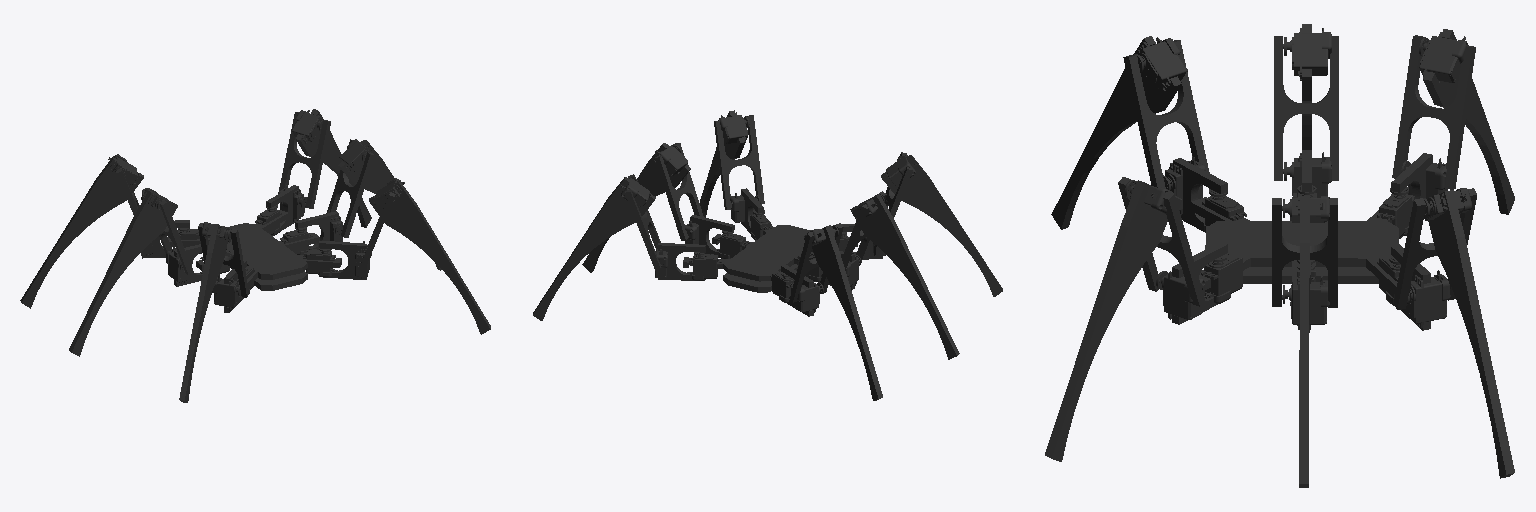
--- What the picture shows (computed from the rendered views, not written in the file) ---
The picture shows the robot from 3 angles, left to right: view 1: azimuth 30°, elevation 25°; view 2: azimuth 150°, elevation 25°; view 3: azimuth 270°, elevation 25°; orthographic projection.
Model arachne with 19 links and 18 joints (18 revolute), rooted at lowerbody, posed all joints at 0.
Visible links, largest first — view 1: lowerbody, femur, femur_6, femur_5, femur_4, femur_3, femur_2, tibia_3, tibia_2, hip, hip_3, hip_4 (+5 smaller); view 2: lowerbody, femur_5, femur_3, femur_4, femur_6, femur_2, tibia, femur, tibia_2, hip_3, hip_2, tibia_3 (+5 smaller); view 3: lowerbody, femur, femur_3, femur_4, femur_6, tibia_6, femur_2, tibia_4, tibia_5, tibia_2, femur_5, tibia (+7 smaller).
Link boxes in pixels (x1,y1,x2,y2): lowerbody: [168, 205, 341, 297]; femur: [369, 179, 490, 334]; femur_6: [20, 155, 143, 308]; femur_5: [69, 188, 177, 356]; femur_4: [179, 222, 231, 402]; femur_3: [291, 109, 371, 227]; femur_2: [338, 139, 441, 270]; tibia_3: [279, 112, 330, 208]; tibia_2: [326, 139, 374, 237]; hip: [319, 241, 371, 279]; hip_3: [266, 185, 306, 235]; hip_4: [212, 260, 246, 312]; lowerbody: [683, 210, 857, 302]; femur_5: [850, 194, 959, 359]; femur_3: [533, 177, 655, 320]; femur_4: [881, 155, 1002, 296]; femur_6: [804, 225, 882, 400]; femur_2: [582, 143, 690, 272]; tibia: [714, 115, 764, 209]; femur: [700, 110, 749, 217]; tibia_2: [655, 143, 703, 240]; hip_3: [655, 243, 705, 280]; hip_2: [685, 215, 734, 258]; tibia_3: [625, 174, 660, 270]; lowerbody: [1191, 185, 1414, 305]; femur: [1045, 180, 1181, 461]; femur_3: [1423, 188, 1514, 478]; femur_4: [1051, 36, 1187, 229]; femur_6: [1419, 29, 1514, 214]; tibia_6: [1392, 35, 1475, 189]; femur_2: [1283, 196, 1329, 487]; tibia_4: [1123, 40, 1209, 188]; tibia_5: [1274, 36, 1338, 180]; tibia_2: [1272, 198, 1337, 307]; femur_5: [1284, 24, 1331, 149]; tibia: [1118, 177, 1204, 306].
Bounding box of the posed robot: 0.7246 × 0.4879 × 0.2715 m (x, y, z).
74 mesh visuals loaded from 8 distinct referenced files (8 binary STL).

URDF robot description (arachne):
<?xml version="1.0" ?>
<!-- Generated using onshape-to-robot -->
<!-- Onshape https://cad.onshape.com/documents/6d2de7d00083ca907fc2babe/w/304502f29ec410dd09729b69/e/1a771d50b15e1c926d9bfb2b -->
<robot name="arachne">
  <!-- Link lowerbody -->
  <link name="lowerbody">
    <inertial>
      <origin xyz="-0.0540356 -0.0172819 -0.02284" rpy="0 0 0"/>
      <mass value="0.776148"/>
      <inertia ixx="0.00347337" ixy="-1.33678e-06" ixz="-2.85786e-08" iyy="0.00268241" iyz="-5.69255e-06" izz="0.00596839"/>
    </inertial>
    <!-- Part lowerbody -->
    <visual>
      <origin xyz="-0.054048 -0.00137342 -0.0313015" rpy="-3.14159 -1.58122e-14 -2.01699e-27"/>
      <geometry>
        <mesh filename="package://assets/lowerbody.stl"/>
      </geometry>
      <material name="lowerbody_material">
        <color rgba="0.25 0.25 0.25 1"/>
      </material>
    </visual>
    <collision>
      <origin xyz="-0.054048 -0.00137342 -0.0313015" rpy="-3.14159 -1.58122e-14 -2.01699e-27"/>
      <geometry>
        <mesh filename="package://assets/lowerbody.stl"/>
      </geometry>
    </collision>
    <!-- Part upperbody -->
    <visual>
      <origin xyz="-0.316404 -0.0374887 -0.0213015" rpy="1.36938e-27 -1.58122e-14 -2.01699e-27"/>
      <geometry>
        <mesh filename="package://assets/upperbody.stl"/>
      </geometry>
      <material name="upperbody_material">
        <color rgba="0.25 0.25 0.25 1"/>
      </material>
    </visual>
    <collision>
      <origin xyz="-0.316404 -0.0374887 -0.0213015" rpy="1.36938e-27 -1.58122e-14 -2.01699e-27"/>
      <geometry>
        <mesh filename="package://assets/upperbody.stl"/>
      </geometry>
    </collision>
    <!-- Part idler -->
    <visual>
      <origin xyz="0.0448815 0.0747041 0.18291" rpy="-3.14159 1.43937e-14 -2.71479"/>
      <geometry>
        <mesh filename="package://assets/idler.stl"/>
      </geometry>
      <material name="idler_material">
        <color rgba="0.25 0.25 0.25 1"/>
      </material>
    </visual>
    <collision>
      <origin xyz="0.0448815 0.0747041 0.18291" rpy="-3.14159 1.43937e-14 -2.71479"/>
      <geometry>
        <mesh filename="package://assets/idler.stl"/>
      </geometry>
    </collision>
    <!-- Part idler_2 -->
    <visual>
      <origin xyz="-0.150443 -0.00554233 0.18291" rpy="-3.14159 -1.58122e-14 -3.89288e-15"/>
      <geometry>
        <mesh filename="package://assets/idler.stl"/>
      </geometry>
      <material name="idler_2_material">
        <color rgba="0.25 0.25 0.25 1"/>
      </material>
    </visual>
    <collision>
      <origin xyz="-0.150443 -0.00554233 0.18291" rpy="-3.14159 -1.58122e-14 -3.89288e-15"/>
      <geometry>
        <mesh filename="package://assets/idler.stl"/>
      </geometry>
    </collision>
    <!-- Part idler_3 -->
    <visual>
      <origin xyz="-0.143501 0.0940223 0.18291" rpy="-3.14159 -1.43307e-14 -0.436332"/>
      <geometry>
        <mesh filename="package://assets/idler.stl"/>
      </geometry>
      <material name="idler_3_material">
        <color rgba="0.25 0.25 0.25 1"/>
      </material>
    </visual>
    <collision>
      <origin xyz="-0.143501 0.0940223 0.18291" rpy="-3.14159 -1.43307e-14 -0.436332"/>
      <geometry>
        <mesh filename="package://assets/idler.stl"/>
      </geometry>
    </collision>
    <!-- Part idler_4 -->
    <visual>
      <origin xyz="0.0269595 -0.122635 0.18291" rpy="3.14159 1.23128e-14 2.46337"/>
      <geometry>
        <mesh filename="package://assets/idler.stl"/>
      </geometry>
      <material name="idler_4_material">
        <color rgba="0.25 0.25 0.25 1"/>
      </material>
    </visual>
    <collision>
      <origin xyz="0.0269595 -0.122635 0.18291" rpy="3.14159 1.23128e-14 2.46337"/>
      <geometry>
        <mesh filename="package://assets/idler.stl"/>
      </geometry>
    </collision>
    <!-- Part idler_5 -->
    <visual>
      <origin xyz="0.0422868 -0.0267405 0.18291" rpy="3.14159 1.58129e-14 3.13207"/>
      <geometry>
        <mesh filename="package://assets/idler.stl"/>
      </geometry>
      <material name="idler_5_material">
        <color rgba="0.25 0.25 0.25 1"/>
      </material>
    </visual>
    <collision>
      <origin xyz="0.0422868 -0.0267405 0.18291" rpy="3.14159 1.58129e-14 3.13207"/>
      <geometry>
        <mesh filename="package://assets/idler.stl"/>
      </geometry>
    </collision>
    <!-- Part idler_6 -->
    <visual>
      <origin xyz="-0.148603 -0.105946 0.18291" rpy="3.14159 -1.24067e-14 0.668693"/>
      <geometry>
        <mesh filename="package://assets/idler.stl"/>
      </geometry>
      <material name="idler_6_material">
        <color rgba="0.25 0.25 0.25 1"/>
      </material>
    </visual>
    <collision>
      <origin xyz="-0.148603 -0.105946 0.18291" rpy="3.14159 -1.24067e-14 0.668693"/>
      <geometry>
        <mesh filename="package://assets/idler.stl"/>
      </geometry>
    </collision>
    <!-- Part e07_mg996r -->
    <visual>
      <origin xyz="0.0220999 0.0754833 -0.0113015" rpy="6.54567e-15 1.43937e-14 -2.71479"/>
      <geometry>
        <mesh filename="package://assets/e07_mg996r.stl"/>
      </geometry>
      <material name="e07_mg996r_material">
        <color rgba="0.25 0.25 0.25 1"/>
      </material>
    </visual>
    <collision>
      <origin xyz="0.0220999 0.0754833 -0.0113015" rpy="6.54567e-15 1.43937e-14 -2.71479"/>
      <geometry>
        <mesh filename="package://assets/e07_mg996r.stl"/>
      </geometry>
    </collision>
    <!-- Part servo_horns -->
    <visual>
      <origin xyz="0.0312028 0.0796229 0.00594854" rpy="-1.5708 2.09797e-15 -2.71479"/>
      <geometry>
        <mesh filename="package://assets/servo_horns.stl"/>
      </geometry>
      <material name="servo_horns_material">
        <color rgba="0.25 0.25 0.25 1"/>
      </material>
    </visual>
    <collision>
      <origin xyz="0.0312028 0.0796229 0.00594854" rpy="-1.5708 2.09797e-15 -2.71479"/>
      <geometry>
        <mesh filename="package://assets/servo_horns.stl"/>
      </geometry>
    </collision>
    <!-- Part e07_mg996r_2 -->
    <visual>
      <origin xyz="-0.130028 -0.0156824 -0.0113015" rpy="1.46066e-27 -1.58122e-14 -3.89288e-15"/>
      <geometry>
        <mesh filename="package://assets/e07_mg996r.stl"/>
      </geometry>
      <material name="e07_mg996r_2_material">
        <color rgba="0.25 0.25 0.25 1"/>
      </material>
    </visual>
    <collision>
      <origin xyz="-0.130028 -0.0156824 -0.0113015" rpy="1.46066e-27 -1.58122e-14 -3.89288e-15"/>
      <geometry>
        <mesh filename="package://assets/e07_mg996r.stl"/>
      </geometry>
    </collision>
    <!-- Part servo_horns_2 -->
    <visual>
      <origin xyz="-0.140028 -0.0156824 0.00594854" rpy="-1.5708 -1.75355e-16 -8.38581e-15"/>
      <geometry>
        <mesh filename="package://assets/servo_horns.stl"/>
      </geometry>
      <material name="servo_horns_2_material">
        <color rgba="0.25 0.25 0.25 1"/>
      </material>
    </visual>
    <collision>
      <origin xyz="-0.140028 -0.0156824 0.00594854" rpy="-1.5708 -1.75355e-16 -8.38581e-15"/>
      <geometry>
        <mesh filename="package://assets/servo_horns.stl"/>
      </geometry>
    </collision>
    <!-- Part e07_mg996r_3 -->
    <visual>
      <origin xyz="-0.129284 0.0762044 -0.0113015" rpy="6.6825e-15 -1.43307e-14 -0.436332"/>
      <geometry>
        <mesh filename="package://assets/e07_mg996r.stl"/>
      </geometry>
      <material name="e07_mg996r_3_material">
        <color rgba="0.25 0.25 0.25 1"/>
      </material>
    </visual>
    <collision>
      <origin xyz="-0.129284 0.0762044 -0.0113015" rpy="6.6825e-15 -1.43307e-14 -0.436332"/>
      <geometry>
        <mesh filename="package://assets/e07_mg996r.stl"/>
      </geometry>
    </collision>
    <!-- Part servo_horns_3 -->
    <visual>
      <origin xyz="-0.138347 0.0804306 0.00594854" rpy="-1.5708 7.69581e-15 -0.436332"/>
      <geometry>
        <mesh filename="package://assets/servo_horns.stl"/>
      </geometry>
      <material name="servo_horns_3_material">
        <color rgba="0.25 0.25 0.25 1"/>
      </material>
    </visual>
    <collision>
      <origin xyz="-0.138347 0.0804306 0.00594854" rpy="-1.5708 7.69581e-15 -0.436332"/>
      <geometry>
        <mesh filename="package://assets/servo_horns.stl"/>
      </geometry>
    </collision>
    <!-- Part e07_mg996r_4 -->
    <visual>
      <origin xyz="0.0174242 -0.10193 -0.0113015" rpy="-9.92068e-15 1.23128e-14 2.46337"/>
      <geometry>
        <mesh filename="package://assets/e07_mg996r.stl"/>
      </geometry>
      <material name="e07_mg996r_4_material">
        <color rgba="0.25 0.25 0.25 1"/>
      </material>
    </visual>
    <collision>
      <origin xyz="0.0174242 -0.10193 -0.0113015" rpy="-9.92068e-15 1.23128e-14 2.46337"/>
      <geometry>
        <mesh filename="package://assets/e07_mg996r.stl"/>
      </geometry>
    </collision>
    <!-- Part servo_horns_4 -->
    <visual>
      <origin xyz="0.0252111 -0.108204 0.00594854" rpy="-1.5708 3.08939e-15 2.46337"/>
      <geometry>
        <mesh filename="package://assets/servo_horns.stl"/>
      </geometry>
      <material name="servo_horns_4_material">
        <color rgba="0.25 0.25 0.25 1"/>
      </material>
    </visual>
    <collision>
      <origin xyz="0.0252111 -0.108204 0.00594854" rpy="-1.5708 3.08939e-15 2.46337"/>
      <geometry>
        <mesh filename="package://assets/servo_horns.stl"/>
      </geometry>
    </collision>
    <!-- Part e07_mg996r_5 -->
    <visual>
      <origin xyz="0.0219689 -0.0164065 -0.0113015" rpy="-1.5065e-16 1.58129e-14 3.13207"/>
      <geometry>
        <mesh filename="package://assets/e07_mg996r.stl"/>
      </geometry>
      <material name="e07_mg996r_5_material">
        <color rgba="0.25 0.25 0.25 1"/>
      </material>
    </visual>
    <collision>
      <origin xyz="0.0219689 -0.0164065 -0.0113015" rpy="-1.5065e-16 1.58129e-14 3.13207"/>
      <geometry>
        <mesh filename="package://assets/e07_mg996r.stl"/>
      </geometry>
    </collision>
    <!-- Part servo_horns_5 -->
    <visual>
      <origin xyz="0.0319685 -0.0165017 0.00594854" rpy="-1.5708 -3.06292e-15 3.13207"/>
      <geometry>
        <mesh filename="package://assets/servo_horns.stl"/>
      </geometry>
      <material name="servo_horns_5_material">
        <color rgba="0.25 0.25 0.25 1"/>
      </material>
    </visual>
    <collision>
      <origin xyz="0.0319685 -0.0165017 0.00594854" rpy="-1.5708 -3.06292e-15 3.13207"/>
      <geometry>
        <mesh filename="package://assets/servo_horns.stl"/>
      </geometry>
    </collision>
    <!-- Part e07_mg996r_6 -->
    <visual>
      <origin xyz="-0.126298 -0.101246 -0.0113015" rpy="-9.80292e-15 -1.24067e-14 0.668693"/>
      <geometry>
        <mesh filename="package://assets/e07_mg996r.stl"/>
      </geometry>
      <material name="e07_mg996r_6_material">
        <color rgba="0.25 0.25 0.25 1"/>
      </material>
    </visual>
    <collision>
      <origin xyz="-0.126298 -0.101246 -0.0113015" rpy="-9.80292e-15 -1.24067e-14 0.668693"/>
      <geometry>
        <mesh filename="package://assets/e07_mg996r.stl"/>
      </geometry>
    </collision>
    <!-- Part servo_horns_6 -->
    <visual>
      <origin xyz="-0.134145 -0.107445 0.00594854" rpy="-1.5708 5.2737e-16 0.668693"/>
      <geometry>
        <mesh filename="package://assets/servo_horns.stl"/>
      </geometry>
      <material name="servo_horns_6_material">
        <color rgba="0.25 0.25 0.25 1"/>
      </material>
    </visual>
    <collision>
      <origin xyz="-0.134145 -0.107445 0.00594854" rpy="-1.5708 5.2737e-16 0.668693"/>
      <geometry>
        <mesh filename="package://assets/servo_horns.stl"/>
      </geometry>
    </collision>
  </link>
  <!-- Link hip -->
  <link name="hip">
    <inertial>
      <origin xyz="-0.053206 0.00249015 0.0207088" rpy="0 0 0"/>
      <mass value="0.0877468"/>
      <inertia ixx="3.22487e-05" ixy="2.10022e-06" ixz="2.05736e-07" iyy="5.43322e-05" iyz="3.66247e-07" izz="3.75006e-05"/>
    </inertial>
    <!-- Part hip -->
    <visual>
      <origin xyz="-0.180836 -0.005 -0.23702" rpy="-1.5708 -1.14941e-17 -4.42385e-14"/>
      <geometry>
        <mesh filename="package://assets/hip.stl"/>
      </geometry>
      <material name="hip_material">
        <color rgba="0.25 0.25 0.25 1"/>
      </material>
    </visual>
    <collision>
      <origin xyz="-0.180836 -0.005 -0.23702" rpy="-1.5708 -1.14941e-17 -4.42385e-14"/>
      <geometry>
        <mesh filename="package://assets/hip.stl"/>
      </geometry>
    </collision>
    <!-- Part idler_7 -->
    <visual>
      <origin xyz="-0.0729354 -0.199212 0.00108461" rpy="-1.5708 -1.5708 0"/>
      <geometry>
        <mesh filename="package://assets/idler.stl"/>
      </geometry>
      <material name="idler_7_material">
        <color rgba="0.25 0.25 0.25 1"/>
      </material>
    </visual>
    <collision>
      <origin xyz="-0.0729354 -0.199212 0.00108461" rpy="-1.5708 -1.5708 0"/>
      <geometry>
        <mesh filename="package://assets/idler.stl"/>
      </geometry>
    </collision>
    <!-- Part e07_mg996r_7 -->
    <visual>
      <origin xyz="-0.0627954 -0.005 0.0215" rpy="1.5708 -1.5708 0"/>
      <geometry>
        <mesh filename="package://assets/e07_mg996r.stl"/>
      </geometry>
      <material name="e07_mg996r_7_material">
        <color rgba="0.25 0.25 0.25 1"/>
      </material>
    </visual>
    <collision>
      <origin xyz="-0.0627954 -0.005 0.0215" rpy="1.5708 -1.5708 0"/>
      <geometry>
        <mesh filename="package://assets/e07_mg996r.stl"/>
      </geometry>
    </collision>
    <!-- Part servo_horns_7 -->
    <visual>
      <origin xyz="-0.0627954 -0.02225 0.0115" rpy="-1.2367e-13 -1.5708 0"/>
      <geometry>
        <mesh filename="package://assets/servo_horns.stl"/>
      </geometry>
      <material name="servo_horns_7_material">
        <color rgba="0.25 0.25 0.25 1"/>
      </material>
    </visual>
    <collision>
      <origin xyz="-0.0627954 -0.02225 0.0115" rpy="-1.2367e-13 -1.5708 0"/>
      <geometry>
        <mesh filename="package://assets/servo_horns.stl"/>
      </geometry>
    </collision>
  </link>
  <!-- Link tibia -->
  <link name="tibia">
    <inertial>
      <origin xyz="-0.06108 -0.0222313 0.0229759" rpy="0 0 0"/>
      <mass value="0.0478411"/>
      <inertia ixx="4.33859e-05" ixy="-2.26958e-05" ixz="7.43363e-19" iyy="9.74814e-05" iyz="6.53219e-19" izz="7.14134e-05"/>
    </inertial>
    <!-- Part tibia -->
    <visual>
      <origin xyz="0.243359 0.0938963 -0.234601" rpy="-1.5708 2.62926e-14 -2.79253"/>
      <geometry>
        <mesh filename="package://assets/tibia.stl"/>
      </geometry>
      <material name="tibia_material">
        <color rgba="0.25 0.25 0.25 1"/>
      </material>
    </visual>
    <collision>
      <origin xyz="0.243359 0.0938963 -0.234601" rpy="-1.5708 2.62926e-14 -2.79253"/>
      <geometry>
        <mesh filename="package://assets/tibia.stl"/>
      </geometry>
    </collision>
  </link>
  <!-- Link femur -->
  <link name="femur">
    <inertial>
      <origin xyz="0.00696633 0.0653801 -0.0247333" rpy="0 0 0"/>
      <mass value="0.163879"/>
      <inertia ixx="0.001055" ixy="3.57963e-05" ixz="1.23733e-07" iyy="3.99249e-05" iyz="-1.42808e-05" izz="0.00107773"/>
    </inertial>
    <!-- Part femur -->
    <visual>
      <origin xyz="-0.244994 -0.502112 -0.0284" rpy="5.88775e-14 -2.49801e-15 1.5708"/>
      <geometry>
        <mesh filename="package://assets/femur.stl"/>
      </geometry>
      <material name="femur_material">
        <color rgba="0.25 0.25 0.25 1"/>
      </material>
    </visual>
    <collision>
      <origin xyz="-0.244994 -0.502112 -0.0284" rpy="5.88775e-14 -2.49801e-15 1.5708"/>
      <geometry>
        <mesh filename="package://assets/femur.stl"/>
      </geometry>
    </collision>
    <!-- Part idler_8 -->
    <visual>
      <origin xyz="-0.0104154 0.01014 0.175812" rpy="-3.14159 -4.61433e-14 5.8207e-14"/>
      <geometry>
        <mesh filename="package://assets/idler.stl"/>
      </geometry>
      <material name="idler_8_material">
        <color rgba="0.25 0.25 0.25 1"/>
      </material>
    </visual>
    <collision>
      <origin xyz="-0.0104154 0.01014 0.175812" rpy="-3.14159 -4.61433e-14 5.8207e-14"/>
      <geometry>
        <mesh filename="package://assets/idler.stl"/>
      </geometry>
    </collision>
    <!-- Part e07_mg996r_8 -->
    <visual>
      <origin xyz="0.01 3.8719e-15 -0.0184" rpy="2.51941e-15 5.88803e-14 3.26009e-14"/>
      <geometry>
        <mesh filename="package://assets/e07_mg996r.stl"/>
      </geometry>
      <material name="e07_mg996r_8_material">
        <color rgba="0.25 0.25 0.25 1"/>
      </material>
    </visual>
    <collision>
      <origin xyz="0.01 3.8719e-15 -0.0184" rpy="2.51941e-15 5.88803e-14 3.26009e-14"/>
      <geometry>
        <mesh filename="package://assets/e07_mg996r.stl"/>
      </geometry>
    </collision>
    <!-- Part servo_horns_8 -->
    <visual>
      <origin xyz="2.77556e-17 6.93889e-18 -0.00115" rpy="-1.5708 -2.34685e-17 -1.21229e-16"/>
      <geometry>
        <mesh filename="package://assets/servo_horns.stl"/>
      </geometry>
      <material name="servo_horns_8_material">
        <color rgba="0.25 0.25 0.25 1"/>
      </material>
    </visual>
    <collision>
      <origin xyz="2.77556e-17 6.93889e-18 -0.00115" rpy="-1.5708 -2.34685e-17 -1.21229e-16"/>
      <geometry>
        <mesh filename="package://assets/servo_horns.stl"/>
      </geometry>
    </collision>
  </link>
  <!-- Joint from tibia to femur -->
  <joint name="femur_r1" type="revolute">
    <origin xyz="-0.12216 -0.0444626 -3.45557e-15" rpy="-3.14159 1.8554e-14 0.959931"/>
    <parent link="tibia"/>
    <child link="femur"/>
    <axis xyz="0 0 1"/>
    <limit effort="10" velocity="6" lower="-1.5099e-14" upper="2.18166"/>
    <joint_properties friction="0.5"/>
  </joint>
  <!-- Joint from hip to tibia -->
  <joint name="tibia_r1" type="revolute">
    <origin xyz="-0.0697954 -0.0234 0.0115" rpy="-1.5708 -1.5708 0"/>
    <parent link="hip"/>
    <child link="tibia"/>
    <axis xyz="0 0 1"/>
    <limit effort="10" velocity="6" lower="-2.22045e-15" upper="1.22173"/>
    <joint_properties friction="0.5"/>
  </joint>
  <!-- Joint from lowerbody to hip -->
  <joint name="hip_r1" type="revolute">
    <origin xyz="0.0252111 -0.108204 0.00709854" rpy="3.14159 3.08939e-15 2.46337"/>
    <parent link="lowerbody"/>
    <child link="hip"/>
    <axis xyz="0 0 1"/>
    <limit effort="10" velocity="6" lower="-0.523599" upper="0.523599"/>
    <joint_properties friction="0.5"/>
  </joint>
  <!-- Link hip_2 -->
  <link name="hip_2">
    <inertial>
      <origin xyz="-0.053206 0.00249015 0.0207088" rpy="0 0 0"/>
      <mass value="0.0877468"/>
      <inertia ixx="3.22487e-05" ixy="2.10022e-06" ixz="2.05736e-07" iyy="5.43322e-05" iyz="3.66247e-07" izz="3.75006e-05"/>
    </inertial>
    <!-- Part hip_2 -->
    <visual>
      <origin xyz="-0.180836 -0.005 -0.23702" rpy="-1.5708 -7.323e-18 -2.45118e-14"/>
      <geometry>
        <mesh filename="package://assets/hip.stl"/>
      </geometry>
      <material name="hip_2_material">
        <color rgba="0.25 0.25 0.25 1"/>
      </material>
    </visual>
    <collision>
      <origin xyz="-0.180836 -0.005 -0.23702" rpy="-1.5708 -7.323e-18 -2.45118e-14"/>
      <geometry>
        <mesh filename="package://assets/hip.stl"/>
      </geometry>
    </collision>
    <!-- Part idler_9 -->
    <visual>
      <origin xyz="-0.0729354 -0.199212 0.00108461" rpy="-1.5708 -1.5708 0"/>
      <geometry>
        <mesh filename="package://assets/idler.stl"/>
      </geometry>
      <material name="idler_9_material">
        <color rgba="0.25 0.25 0.25 1"/>
      </material>
    </visual>
    <collision>
      <origin xyz="-0.0729354 -0.199212 0.00108461" rpy="-1.5708 -1.5708 0"/>
      <geometry>
        <mesh filename="package://assets/idler.stl"/>
      </geometry>
    </collision>
    <!-- Part e07_mg996r_9 -->
    <visual>
      <origin xyz="-0.0627954 -0.005 0.0215" rpy="1.5708 -1.5708 0"/>
      <geometry>
        <mesh filename="package://assets/e07_mg996r.stl"/>
      </geometry>
      <material name="e07_mg996r_9_material">
        <color rgba="0.25 0.25 0.25 1"/>
      </material>
    </visual>
    <collision>
      <origin xyz="-0.0627954 -0.005 0.0215" rpy="1.5708 -1.5708 0"/>
      <geometry>
        <mesh filename="package://assets/e07_mg996r.stl"/>
      </geometry>
    </collision>
    <!-- Part servo_horns_9 -->
    <visual>
      <origin xyz="-0.0627954 -0.02225 0.0115" rpy="-1.11844e-13 -1.5708 0"/>
      <geometry>
        <mesh filename="package://assets/servo_horns.stl"/>
      </geometry>
      <material name="servo_horns_9_material">
        <color rgba="0.25 0.25 0.25 1"/>
      </material>
    </visual>
    <collision>
      <origin xyz="-0.0627954 -0.02225 0.0115" rpy="-1.11844e-13 -1.5708 0"/>
      <geometry>
        <mesh filename="package://assets/servo_horns.stl"/>
      </geometry>
    </collision>
  </link>
  <!-- Link tibia_2 -->
  <link name="tibia_2">
    <inertial>
      <origin xyz="-0.06108 -0.0222313 0.0229759" rpy="0 0 0"/>
      <mass value="0.0478411"/>
      <inertia ixx="4.33859e-05" ixy="-2.26958e-05" ixz="1.17027e-20" iyy="9.74814e-05" iyz="1.15897e-21" izz="7.14134e-05"/>
    </inertial>
    <!-- Part tibia_2 -->
    <visual>
      <origin xyz="0.243359 0.0938963 -0.234601" rpy="-1.5708 3.92633e-16 -2.79253"/>
      <geometry>
        <mesh filename="package://assets/tibia.stl"/>
      </geometry>
      <material name="tibia_2_material">
        <color rgba="0.25 0.25 0.25 1"/>
      </material>
    </visual>
    <collision>
      <origin xyz="0.243359 0.0938963 -0.234601" rpy="-1.5708 3.92633e-16 -2.79253"/>
      <geometry>
        <mesh filename="package://assets/tibia.stl"/>
      </geometry>
    </collision>
  </link>
  <!-- Link femur_2 -->
  <link name="femur_2">
    <inertial>
      <origin xyz="0.00696633 0.0653801 -0.0247333" rpy="0 0 0"/>
      <mass value="0.163879"/>
      <inertia ixx="0.001055" ixy="3.57963e-05" ixz="1.23733e-07" iyy="3.99249e-05" iyz="-1.42808e-05" izz="0.00107773"/>
    </inertial>
    <!-- Part femur_2 -->
    <visual>
      <origin xyz="-0.244994 -0.502112 -0.0284" rpy="5.56481e-14 -2.61427e-14 1.5708"/>
      <geometry>
        <mesh filename="package://assets/femur.stl"/>
      </geometry>
      <material name="femur_2_material">
        <color rgba="0.25 0.25 0.25 1"/>
      </material>
    </visual>
    <collision>
      <origin xyz="-0.244994 -0.502112 -0.0284" rpy="5.56481e-14 -2.61427e-14 1.5708"/>
      <geometry>
        <mesh filename="package://assets/femur.stl"/>
      </geometry>
    </collision>
    <!-- Part idler_10 -->
    <visual>
      <origin xyz="-0.0104154 0.01014 0.175812" rpy="-3.14159 -4.81991e-14 2.91261e-14"/>
      <geometry>
        <mesh filename="package://assets/idler.stl"/>
      </geometry>
      <material name="idler_10_material">
        <color rgba="0.25 0.25 0.25 1"/>
      </material>
    </visual>
    <collision>
      <origin xyz="-0.0104154 0.01014 0.175812" rpy="-3.14159 -4.81991e-14 2.91261e-14"/>
      <geometry>
        <mesh filename="package://assets/idler.stl"/>
      </geometry>
    </collision>
    <!-- Part e07_mg996r_10 -->
    <visual>
      <origin xyz="0.01 3.02189e-15 -0.0184" rpy="2.61427e-14 5.56472e-14 3.54012e-15"/>
      <geometry>
        <mesh filename="package://assets/e07_mg996r.stl"/>
      </geometry>
      <material name="e07_mg996r_10_material">
        <color rgba="0.25 0.25 0.25 1"/>
      </material>
    </visual>
    <collision>
      <origin xyz="0.01 3.02189e-15 -0.0184" rpy="2.61427e-14 5.56472e-14 3.54012e-15"/>
      <geometry>
        <mesh filename="package://assets/e07_mg996r.stl"/>
      </geometry>
    </collision>
    <!-- Part servo_horns_10 -->
    <visual>
      <origin xyz="0 -2.94903e-17 -0.00115" rpy="-1.5708 1.51234e-18 6.5352e-17"/>
      <geometry>
        <mesh filename="package://assets/servo_horns.stl"/>
      </geometry>
      <material name="servo_horns_10_material">
        <color rgba="0.25 0.25 0.25 1"/>
      </material>
    </visual>
    <collision>
      <origin xyz="0 -2.94903e-17 -0.00115" rpy="-1.5708 1.51234e-18 6.5352e-17"/>
      <geometry>
        <mesh filename="package://assets/servo_horns.stl"/>
      </geometry>
    </collision>
  </link>
  <!-- Joint from tibia_2 to femur_2 -->
  <joint name="femur_r2" type="revolute">
    <origin xyz="-0.12216 -0.0444626 -1.38778e-17" rpy="-3.14159 1.60405e-14 0.959931"/>
    <parent link="tibia_2"/>
    <child link="femur_2"/>
    <axis xyz="0 0 1"/>
    <limit effort="10" velocity="6" lower="0" upper="2.18166"/>
    <joint_properties friction="0.5"/>
  </joint>
  <!-- Joint from hip_2 to tibia_2 -->
  <joint name="tibia_r2" type="revolute">
    <origin xyz="-0.0697954 -0.0234 0.0115" rpy="-1.5708 -1.5708 0"/>
    <parent link="hip_2"/>
    <child link="tibia_2"/>
    <axis xyz="0 0 1"/>
    <limit effort="10" velocity="6" lower="0" upper="1.22173"/>
    <joint_properties friction="0.5"/>
  </joint>
  <!-- Joint from lowerbody to hip_2 -->
  <joint name="hip_r2" type="revolute">
    <origin xyz="0.0319685 -0.0165017 0.00709854" rpy="3.14159 -3.06292e-15 3.13207"/>
    <parent link="lowerbody"/>
    <child link="hip_2"/>
    <axis xyz="0 0 1"/>
    <limit effort="10" velocity="6" lower="-0.523599" upper="0.523599"/>
    <joint_properties friction="0.5"/>
  </joint>
  <!-- Link hip_3 -->
  <link name="hip_3">
    <inertial>
      <origin xyz="-0.053206 0.00249015 0.0207088" rpy="0 0 0"/>
      <mass value="0.0877468"/>
      <inertia ixx="3.22487e-05" ixy="2.10022e-06" ixz="2.05736e-07" iyy="5.43322e-05" iyz="3.66247e-07" izz="3.75006e-05"/>
    </inertial>
    <!-- Part hip_3 -->
    <visual>
      <origin xyz="-0.180836 -0.005 -0.23702" rpy="-1.5708 -1.23269e-15 7.76784e-15"/>
      <geometry>
        <mesh filename="package://assets/hip.stl"/>
      </geometry>
      <material name="hip_3_material">
        <color rgba="0.25 0.25 0.25 1"/>
      </material>
    </visual>
    <collision>
      <origin xyz="-0.180836 -0.005 -0.23702" rpy="-1.5708 -1.23269e-15 7.76784e-15"/>
      <geometry>
        <mesh filename="package://assets/hip.stl"/>
      </geometry>
    </collision>
    <!-- Part idler_11 -->
    <visual>
      <origin xyz="-0.0729354 -0.199212 0.00108461" rpy="-1.5708 -1.5708 0"/>
      <geometry>
        <mesh filename="package://assets/idler.stl"/>
      </geometry>
      <material name="idler_11_material">
        <color rgba="0.25 0.25 0.25 1"/>
      </material>
    </visual>
    <collision>
      <origin xyz="-0.0729354 -0.199212 0.00108461" rpy="-1.5708 -1.5708 0"/>
      <geometry>
        <mesh filename="package://assets/idler.stl"/>
      </geometry>
    </collision>
    <!-- Part e07_mg996r_11 -->
    <visual>
      <origin xyz="-0.0627954 -0.005 0.0215" rpy="1.5708 -1.5708 0"/>
      <geometry>
        <mesh filename="package://assets/e07_mg996r.stl"/>
      </geometry>
      <material name="e07_mg996r_11_material">
        <color rgba="0.25 0.25 0.25 1"/>
      </material>
    </visual>
    <collision>
      <origin xyz="-0.0627954 -0.005 0.0215" rpy="1.5708 -1.5708 0"/>
      <geometry>
        <mesh filename="package://assets/e07_mg996r.stl"/>
      </geometry>
    </collision>
    <!-- Part servo_horns_11 -->
    <visual>
      <origin xyz="-0.0627954 -0.02225 0.0115" rpy="-1.7487e-14 -1.5708 0"/>
      <geometry>
        <mesh filename="package://assets/servo_horns.stl"/>
      </geometry>
      <material name="servo_horns_11_material">
        <color rgba="0.25 0.25 0.25 1"/>
      </material>
    </visual>
    <collision>
      <origin xyz="-0.0627954 -0.02225 0.0115" rpy="-1.7487e-14 -1.5708 0"/>
      <geometry>
        <mesh filename="package://assets/servo_horns.stl"/>
      </geometry>
    </collision>
  </link>
  <!-- Link tibia_3 -->
  <link name="tibia_3">
    <inertial>
      <origin xyz="-0.06108 -0.0222313 0.0229759" rpy="0 0 0"/>
      <mass value="0.0478411"/>
      <inertia ixx="4.33859e-05" ixy="-2.26958e-05" ixz="-2.22231e-19" iyy="9.74814e-05" iyz="-1.14541e-19" izz="7.14134e-05"/>
    </inertial>
    <!-- Part tibia_3 -->
    <visual>
      <origin xyz="0.243359 0.0938963 -0.234601" rpy="-1.5708 -7.02658e-15 -2.79253"/>
      <geometry>
        <mesh filename="package://assets/tibia.stl"/>
      </geometry>
      <material name="tibia_3_material">
        <color rgba="0.25 0.25 0.25 1"/>
      </material>
    </visual>
    <collision>
      <origin xyz="0.243359 0.0938963 -0.234601" rpy="-1.5708 -7.02658e-15 -2.79253"/>
      <geometry>
        <mesh filename="package://assets/tibia.stl"/>
      </geometry>
    </collision>
  </link>
  <!-- Link femur_3 -->
  <link name="femur_3">
    <inertial>
      <origin xyz="0.00696633 0.0653801 -0.0247333" rpy="0 0 0"/>
      <mass value="0.163879"/>
      <inertia ixx="0.001055" ixy="3.57963e-05" ixz="1.23733e-07" iyy="3.99249e-05" iyz="-1.42808e-05" izz="0.00107773"/>
    </inertial>
    <!-- Part femur_3 -->
    <visual>
      <origin xyz="-0.244994 -0.502112 -0.0284" rpy="1.28331e-13 1.22672e-13 1.5708"/>
      <geometry>
        <mesh filename="package://assets/femur.stl"/>
      </geometry>
      <material name="femur_3_material">
        <color rgba="0.25 0.25 0.25 1"/>
      </material>
    </visual>
    <collision>
      <origin xyz="-0.244994 -0.502112 -0.0284" rpy="1.28331e-13 1.22672e-13 1.5708"/>
      <geometry>
        <mesh filename="package://assets/femur.stl"/>
      </geometry>
    </collision>
    <!-- Part idler_12 -->
    <visual>
      <origin xyz="-0.0104154 0.01014 0.175812" rpy="3.14159 6.80331e-15 -1.53595e-13"/>
      <geometry>
        <mesh filename="package://assets/idler.stl"/>
      </geometry>
      <material name="idler_12_material">
        <color rgba="0.25 0.25 0.25 1"/>
      </material>
    </visual>
    <collision>
      <origin xyz="-0.0104154 0.01014 0.175812" rpy="3.14159 6.80331e-15 -1.53595e-13"/>
      <geometry>
        <mesh filename="package://assets/idler.stl"/>
      </geometry>
    </collision>
    <!-- Part e07_mg996r_12 -->
    <visual>
      <origin xyz="0.01 2.85969e-15 -0.0184" rpy="-1.22718e-13 1.28222e-13 -6.73326e-14"/>
      <geometry>
        <mesh filename="package://assets/e07_mg996r.stl"/>
      </geometry>
      <material name="e07_mg996r_12_material">
        <color rgba="0.25 0.25 0.25 1"/>
      </material>
    </visual>
    <collision>
      <origin xyz="0.01 2.85969e-15 -0.0184" rpy="-1.22718e-13 1.28222e-13 -6.73326e-14"/>
      <geometry>
        <mesh filename="package://assets/e07_mg996r.stl"/>
      </geometry>
    </collision>
    <!-- Part servo_horns_12 -->
    <visual>
      <origin xyz="2.77556e-17 1.73472e-17 -0.00115" rpy="-1.5708 -6.40153e-17 -6.0049e-17"/>
      <geometry>
        <mesh filename="package://assets/servo_horns.stl"/>
      </geometry>
      <material name="servo_horns_12_material">
        <color rgba="0.25 0.25 0.25 1"/>
      </material>
    </visual>
    <collision>
      <origin xyz="2.77556e-17 1.73472e-17 -0.00115" rpy="-1.5708 -6.40153e-17 -6.0049e-17"/>
      <geometry>
        <mesh filename="package://assets/servo_horns.stl"/>
      </geometry>
    </collision>
  </link>
  <!-- Joint from tibia_3 to femur_3 -->
  <joint name="femur_r3" type="revolute">
    <origin xyz="-0.12216 -0.0444626 8.60423e-16" rpy="3.14159 -1.93599e-14 0.959931"/>
    <parent link="tibia_3"/>
    <child link="femur_3"/>
    <axis xyz="0 0 1"/>
    <limit effort="10" velocity="6" lower="0" upper="2.18166"/>
    <joint_properties friction="0.5"/>
  </joint>
  <!-- Joint from hip_3 to tibia_3 -->
  <joint name="tibia_r3" type="revolute">
    <origin xyz="-0.0697954 -0.0234 0.0115" rpy="-1.5708 -1.5708 0"/>
    <parent link="hip_3"/>
    <child link="tibia_3"/>
    <axis xyz="0 0 1"/>
    <limit effort="10" velocity="6" lower="-2.35367e-14" upper="1.22173"/>
    <joint_properties friction="0.5"/>
  </joint>
  <!-- Joint from lowerbody to hip_3 -->
  <joint name="hip_r3" type="revolute">
    <origin xyz="0.0312028 0.0796229 0.00709854" rpy="3.14159 2.09797e-15 -2.71479"/>
    <parent link="lowerbody"/>
    <child link="hip_3"/>
    <axis xyz="0 0 1"/>
    <limit effort="10" velocity="6" lower="-0.523599" upper="0.523599"/>
    <joint_properties friction="0.5"/>
  </joint>
  <!-- Link hip_4 -->
  <link name="hip_4">
    <inertial>
      <origin xyz="-0.053201 -0.00249015 0.0194051" rpy="0 0 0"/>
      <mass value="0.0877468"/>
      <inertia ixx="3.23008e-05" ixy="-2.09149e-06" ixz="-8.86649e-07" iyy="5.43758e-05" iyz="-5.18399e-07" izz="3.74921e-05"/>
    </inertial>
    <!-- Part hip_4 -->
    <visual>
      <origin xyz="-0.180836 -0.005 -0.23702" rpy="-1.5708 -6.62629e-18 2.24931e-14"/>
      <geometry>
        <mesh filename="package://assets/hip.stl"/>
      </geometry>
      <material name="hip_4_material">
        <color rgba="0.25 0.25 0.25 1"/>
      </material>
    </visual>
    <collision>
      <origin xyz="-0.180836 -0.005 -0.23702" rpy="-1.5708 -6.62629e-18 2.24931e-14"/>
      <geometry>
        <mesh filename="package://assets/hip.stl"/>
      </geometry>
    </collision>
    <!-- Part idler_13 -->
    <visual>
      <origin xyz="-0.0526554 0.199212 -0.000915387" rpy="1.5708 -1.5708 0"/>
      <geometry>
        <mesh filename="package://assets/idler.stl"/>
      </geometry>
      <material name="idler_13_material">
        <color rgba="0.25 0.25 0.25 1"/>
      </material>
    </visual>
    <collision>
      <origin xyz="-0.0526554 0.199212 -0.000915387" rpy="1.5708 -1.5708 0"/>
      <geometry>
        <mesh filename="package://assets/idler.stl"/>
      </geometry>
    </collision>
    <!-- Part e07_mg996r_13 -->
    <visual>
      <origin xyz="-0.0627954 0.005 0.0195" rpy="-1.5708 -1.5708 0"/>
      <geometry>
        <mesh filename="package://assets/e07_mg996r.stl"/>
      </geometry>
      <material name="e07_mg996r_13_material">
        <color rgba="0.25 0.25 0.25 1"/>
      </material>
    </visual>
    <collision>
      <origin xyz="-0.0627954 0.005 0.0195" rpy="-1.5708 -1.5708 0"/>
      <geometry>
        <mesh filename="package://assets/e07_mg996r.stl"/>
      </geometry>
    </collision>
    <!-- Part servo_horns_13 -->
    <visual>
      <origin xyz="-0.0627954 0.02225 0.0095" rpy="-3.14159 -1.5708 0"/>
      <geometry>
        <mesh filename="package://assets/servo_horns.stl"/>
      </geometry>
      <material name="servo_horns_13_material">
        <color rgba="0.25 0.25 0.25 1"/>
      </material>
    </visual>
    <collision>
      <origin xyz="-0.0627954 0.02225 0.0095" rpy="-3.14159 -1.5708 0"/>
      <geometry>
        <mesh filename="package://assets/servo_horns.stl"/>
      </geometry>
    </collision>
  </link>
  <!-- Link tibia_4 -->
  <link name="tibia_4">
    <inertial>
      <origin xyz="0.065 1.9082e-17 0.0229759" rpy="0 0 0"/>
      <mass value="0.0478411"/>
      <inertia ixx="3.51253e-05" ixy="3.98817e-21" ixz="-2.43036e-21" iyy="0.000105742" iyz="7.42309e-21" izz="7.14134e-05"/>
    </inertial>
    <!-- Part tibia_4 -->
    <visual>
      <origin xyz="-0.260797 -0.005 -0.234601" rpy="-1.5708 -4.81887e-18 -3.73944e-17"/>
      <geometry>
        <mesh filename="package://assets/tibia.stl"/>
      </geometry>
      <material name="tibia_4_material">
        <color rgba="0.25 0.25 0.25 1"/>
      </material>
    </visual>
    <collision>
      <origin xyz="-0.260797 -0.005 -0.234601" rpy="-1.5708 -4.81887e-18 -3.73944e-17"/>
      <geometry>
        <mesh filename="package://assets/tibia.stl"/>
      </geometry>
    </collision>
  </link>
  <!-- Link femur_4 -->
  <link name="femur_4">
    <inertial>
      <origin xyz="0.00696633 -0.0653774 -0.0247333" rpy="0 0 0"/>
      <mass value="0.163879"/>
      <inertia ixx="0.00105506" ixy="-3.57925e-05" ixz="1.23733e-07" iyy="3.99249e-05" iyz="1.42901e-05" izz="0.00107779"/>
    </inertial>
    <!-- Part femur_4 -->
    <visual>
      <origin xyz="-0.244994 0.502112 -0.0184" rpy="3.14159 7.10171e-14 -1.5708"/>
      <geometry>
        <mesh filename="package://assets/femur.stl"/>
      </geometry>
      <material name="femur_4_material">
        <color rgba="0.25 0.25 0.25 1"/>
      </material>
    </visual>
    <collision>
      <origin xyz="-0.244994 0.502112 -0.0184" rpy="3.14159 7.10171e-14 -1.5708"/>
      <geometry>
        <mesh filename="package://assets/femur.stl"/>
      </geometry>
    </collision>
    <!-- Part idler_14 -->
    <visual>
      <origin xyz="-0.0104154 0.01014 0.175812" rpy="-3.14159 -1.56671e-13 -1.38427e-13"/>
      <geometry>
        <mesh filename="package://assets/idler.stl"/>
      </geometry>
      <material name="idler_14_material">
        <color rgba="0.25 0.25 0.25 1"/>
      </material>
    </visual>
    <collision>
      <origin xyz="-0.0104154 0.01014 0.175812" rpy="-3.14159 -1.56671e-13 -1.38427e-13"/>
      <geometry>
        <mesh filename="package://assets/idler.stl"/>
      </geometry>
    </collision>
    <!-- Part e07_mg996r_14 -->
    <visual>
      <origin xyz="0.01 -3.81639e-16 -0.0184" rpy="7.0894e-14 1.24143e-13 8.98493e-14"/>
      <geometry>
        <mesh filename="package://assets/e07_mg996r.stl"/>
      </geometry>
      <material name="e07_mg996r_14_material">
        <color rgba="0.25 0.25 0.25 1"/>
      </material>
    </visual>
    <collision>
      <origin xyz="0.01 -3.81639e-16 -0.0184" rpy="7.0894e-14 1.24143e-13 8.98493e-14"/>
      <geometry>
        <mesh filename="package://assets/e07_mg996r.stl"/>
      </geometry>
    </collision>
    <!-- Part servo_horns_14 -->
    <visual>
      <origin xyz="0 -6.93889e-18 -0.00115" rpy="-1.5708 4.10379e-17 4.14286e-17"/>
      <geometry>
        <mesh filename="package://assets/servo_horns.stl"/>
      </geometry>
      <material name="servo_horns_14_material">
        <color rgba="0.25 0.25 0.25 1"/>
      </material>
    </visual>
    <collision>
      <origin xyz="0 -6.93889e-18 -0.00115" rpy="-1.5708 4.10379e-17 4.14286e-17"/>
      <geometry>
        <mesh filename="package://assets/servo_horns.stl"/>
      </geometry>
    </collision>
  </link>
  <!-- Joint from tibia_4 to femur_4 -->
  <joint name="femur_l1" type="revolute">
    <origin xyz="0.13 -2.77556e-17 -3.1225e-17" rpy="-3.14159 1.19807e-14 2.53073"/>
    <parent link="tibia_4"/>
    <child link="femur_4"/>
    <axis xyz="0 0 1"/>
    <limit effort="10" velocity="6" lower="-2.18166" upper="0"/>
    <joint_properties friction="0.5"/>
  </joint>
  <!-- Joint from hip_4 to tibia_4 -->
  <joint name="tibia_l1" type="revolute">
    <origin xyz="-0.0627954 0.0234 0.0095" rpy="-1.5708 1.22173 -3.14159"/>
    <parent link="hip_4"/>
    <child link="tibia_4"/>
    <axis xyz="0 0 1"/>
    <limit effort="10" velocity="6" lower="-1.22173" upper="0"/>
    <joint_properties friction="0.5"/>
  </joint>
  <!-- Joint from lowerbody to hip_4 -->
  <joint name="hip_l1" type="revolute">
    <origin xyz="-0.134145 -0.107445 0.00709854" rpy="3.14159 5.2737e-16 0.668693"/>
    <parent link="lowerbody"/>
    <child link="hip_4"/>
    <axis xyz="0 0 1"/>
    <limit effort="10" velocity="6" lower="-0.523599" upper="0.523599"/>
    <joint_properties friction="0.5"/>
  </joint>
  <!-- Link hip_5 -->
  <link name="hip_5">
    <inertial>
      <origin xyz="-0.053201 -0.00249015 0.0194051" rpy="0 0 0"/>
      <mass value="0.0877468"/>
      <inertia ixx="3.23008e-05" ixy="-2.09149e-06" ixz="-8.86649e-07" iyy="5.43758e-05" iyz="-5.18399e-07" izz="3.74921e-05"/>
    </inertial>
    <!-- Part hip_5 -->
    <visual>
      <origin xyz="-0.180836 -0.005 -0.23702" rpy="-1.5708 -6.12323e-17 1.10913e-13"/>
      <geometry>
        <mesh filename="package://assets/hip.stl"/>
      </geometry>
      <material name="hip_5_material">
        <color rgba="0.25 0.25 0.25 1"/>
      </material>
    </visual>
    <collision>
      <origin xyz="-0.180836 -0.005 -0.23702" rpy="-1.5708 -6.12323e-17 1.10913e-13"/>
      <geometry>
        <mesh filename="package://assets/hip.stl"/>
      </geometry>
    </collision>
    <!-- Part idler_15 -->
    <visual>
      <origin xyz="-0.0526554 0.199212 -0.000915387" rpy="1.5708 -1.5708 0"/>
      <geometry>
        <mesh filename="package://assets/idler.stl"/>
      </geometry>
      <material name="idler_15_material">
        <color rgba="0.25 0.25 0.25 1"/>
      </material>
    </visual>
    <collision>
      <origin xyz="-0.0526554 0.199212 -0.000915387" rpy="1.5708 -1.5708 0"/>
      <geometry>
        <mesh filename="package://assets/idler.stl"/>
      </geometry>
    </collision>
    <!-- Part e07_mg996r_15 -->
    <visual>
      <origin xyz="-0.0627954 0.005 0.0195" rpy="-1.5708 -1.5708 0"/>
      <geometry>
        <mesh filename="package://assets/e07_mg996r.stl"/>
      </geometry>
      <material name="e07_mg996r_15_material">
        <color rgba="0.25 0.25 0.25 1"/>
      </material>
    </visual>
    <collision>
      <origin xyz="-0.0627954 0.005 0.0195" rpy="-1.5708 -1.5708 0"/>
      <geometry>
        <mesh filename="package://assets/e07_mg996r.stl"/>
      </geometry>
    </collision>
    <!-- Part servo_horns_15 -->
    <visual>
      <origin xyz="-0.0627954 0.02225 0.0095" rpy="3.14159 -1.5708 0"/>
      <geometry>
        <mesh filename="package://assets/servo_horns.stl"/>
      </geometry>
      <material name="servo_horns_15_material">
        <color rgba="0.25 0.25 0.25 1"/>
      </material>
    </visual>
    <collision>
      <origin xyz="-0.0627954 0.02225 0.0095" rpy="3.14159 -1.5708 0"/>
      <geometry>
        <mesh filename="package://assets/servo_horns.stl"/>
      </geometry>
    </collision>
  </link>
  <!-- Link tibia_5 -->
  <link name="tibia_5">
    <inertial>
      <origin xyz="0.065 2.42861e-17 0.0229759" rpy="0 0 0"/>
      <mass value="0.0478411"/>
      <inertia ixx="3.51253e-05" ixy="2.58088e-21" ixz="-6.48363e-36" iyy="0.000105742" iyz="-1.04715e-35" izz="7.14134e-05"/>
    </inertial>
    <!-- Part tibia_5 -->
    <visual>
      <origin xyz="-0.260797 -0.005 -0.234601" rpy="-1.5708 6.90995e-32 4.45385e-18"/>
      <geometry>
        <mesh filename="package://assets/tibia.stl"/>
      </geometry>
      <material name="tibia_5_material">
        <color rgba="0.25 0.25 0.25 1"/>
      </material>
    </visual>
    <collision>
      <origin xyz="-0.260797 -0.005 -0.234601" rpy="-1.5708 6.90995e-32 4.45385e-18"/>
      <geometry>
        <mesh filename="package://assets/tibia.stl"/>
      </geometry>
    </collision>
  </link>
  <!-- Link femur_5 -->
  <link name="femur_5">
    <inertial>
      <origin xyz="0.00696633 -0.0653774 -0.0247333" rpy="0 0 0"/>
      <mass value="0.163879"/>
      <inertia ixx="0.00105506" ixy="-3.57925e-05" ixz="1.23733e-07" iyy="3.99249e-05" iyz="1.42901e-05" izz="0.00107779"/>
    </inertial>
    <!-- Part femur_5 -->
    <visual>
      <origin xyz="-0.244994 0.502112 -0.0184" rpy="-3.14159 2.10749e-13 -1.5708"/>
      <geometry>
        <mesh filename="package://assets/femur.stl"/>
      </geometry>
      <material name="femur_5_material">
        <color rgba="0.25 0.25 0.25 1"/>
      </material>
    </visual>
    <collision>
      <origin xyz="-0.244994 0.502112 -0.0184" rpy="-3.14159 2.10749e-13 -1.5708"/>
      <geometry>
        <mesh filename="package://assets/femur.stl"/>
      </geometry>
    </collision>
    <!-- Part idler_16 -->
    <visual>
      <origin xyz="-0.0104154 0.01014 0.175812" rpy="-3.14159 -1.88068e-13 3.0343e-13"/>
      <geometry>
        <mesh filename="package://assets/idler.stl"/>
      </geometry>
      <material name="idler_16_material">
        <color rgba="0.25 0.25 0.25 1"/>
      </material>
    </visual>
    <collision>
      <origin xyz="-0.0104154 0.01014 0.175812" rpy="-3.14159 -1.88068e-13 3.0343e-13"/>
      <geometry>
        <mesh filename="package://assets/idler.stl"/>
      </geometry>
    </collision>
    <!-- Part e07_mg996r_16 -->
    <visual>
      <origin xyz="0.01 2.13024e-15 -0.0184" rpy="2.10749e-13 -8.5317e-14 2.94703e-13"/>
      <geometry>
        <mesh filename="package://assets/e07_mg996r.stl"/>
      </geometry>
      <material name="e07_mg996r_16_material">
        <color rgba="0.25 0.25 0.25 1"/>
      </material>
    </visual>
    <collision>
      <origin xyz="0.01 2.13024e-15 -0.0184" rpy="2.10749e-13 -8.5317e-14 2.94703e-13"/>
      <geometry>
        <mesh filename="package://assets/e07_mg996r.stl"/>
      </geometry>
    </collision>
    <!-- Part servo_horns_16 -->
    <visual>
      <origin xyz="0 -2.77556e-17 -0.00115" rpy="-1.5708 1.01384e-30 4.78344e-17"/>
      <geometry>
        <mesh filename="package://assets/servo_horns.stl"/>
      </geometry>
      <material name="servo_horns_16_material">
        <color rgba="0.25 0.25 0.25 1"/>
      </material>
    </visual>
    <collision>
      <origin xyz="0 -2.77556e-17 -0.00115" rpy="-1.5708 1.01384e-30 4.78344e-17"/>
      <geometry>
        <mesh filename="package://assets/servo_horns.stl"/>
      </geometry>
    </collision>
  </link>
  <!-- Joint from tibia_5 to femur_5 -->
  <joint name="femur_l2" type="revolute">
    <origin xyz="0.13 0 3.46945e-17" rpy="3.14159 8.05484e-15 2.53073"/>
    <parent link="tibia_5"/>
    <child link="femur_5"/>
    <axis xyz="0 0 1"/>
    <limit effort="10" velocity="6" lower="-2.18166" upper="0"/>
    <joint_properties friction="0.5"/>
  </joint>
  <!-- Joint from hip_5 to tibia_5 -->
  <joint name="tibia_l2" type="revolute">
    <origin xyz="-0.0627954 0.0234 0.0095" rpy="-1.5708 1.22173 -3.14159"/>
    <parent link="hip_5"/>
    <child link="tibia_5"/>
    <axis xyz="0 0 1"/>
    <limit effort="10" velocity="6" lower="-1.22173" upper="1.11022e-15"/>
    <joint_properties friction="0.5"/>
  </joint>
  <!-- Joint from lowerbody to hip_5 -->
  <joint name="hip_l2" type="revolute">
    <origin xyz="-0.140028 -0.0156824 0.00709854" rpy="-3.14159 -1.75355e-16 -8.38581e-15"/>
    <parent link="lowerbody"/>
    <child link="hip_5"/>
    <axis xyz="0 0 1"/>
    <limit effort="10" velocity="6" lower="-0.523599" upper="0.523599"/>
    <joint_properties friction="0.5"/>
  </joint>
  <!-- Link hip_6 -->
  <link name="hip_6">
    <inertial>
      <origin xyz="-0.053201 -0.00249015 0.0194051" rpy="0 0 0"/>
      <mass value="0.0877468"/>
      <inertia ixx="3.23008e-05" ixy="-2.09149e-06" ixz="-8.86649e-07" iyy="5.43758e-05" iyz="-5.18399e-07" izz="3.74921e-05"/>
    </inertial>
    <!-- Part hip_6 -->
    <visual>
      <origin xyz="-0.180836 -0.005 -0.23702" rpy="-1.5708 6.84438e-16 -3.31541e-14"/>
      <geometry>
        <mesh filename="package://assets/hip.stl"/>
      </geometry>
      <material name="hip_6_material">
        <color rgba="0.25 0.25 0.25 1"/>
      </material>
    </visual>
    <collision>
      <origin xyz="-0.180836 -0.005 -0.23702" rpy="-1.5708 6.84438e-16 -3.31541e-14"/>
      <geometry>
        <mesh filename="package://assets/hip.stl"/>
      </geometry>
    </collision>
    <!-- Part idler_17 -->
    <visual>
      <origin xyz="-0.0526554 0.199212 -0.000915387" rpy="1.5708 -1.5708 0"/>
      <geometry>
        <mesh filename="package://assets/idler.stl"/>
      </geometry>
      <material name="idler_17_material">
        <color rgba="0.25 0.25 0.25 1"/>
      </material>
    </visual>
    <collision>
      <origin xyz="-0.0526554 0.199212 -0.000915387" rpy="1.5708 -1.5708 0"/>
      <geometry>
        <mesh filename="package://assets/idler.stl"/>
      </geometry>
    </collision>
    <!-- Part e07_mg996r_17 -->
    <visual>
      <origin xyz="-0.0627954 0.005 0.0195" rpy="-1.5708 -1.5708 0"/>
      <geometry>
        <mesh filename="package://assets/e07_mg996r.stl"/>
      </geometry>
      <material name="e07_mg996r_17_material">
        <color rgba="0.25 0.25 0.25 1"/>
      </material>
    </visual>
    <collision>
      <origin xyz="-0.0627954 0.005 0.0195" rpy="-1.5708 -1.5708 0"/>
      <geometry>
        <mesh filename="package://assets/e07_mg996r.stl"/>
      </geometry>
    </collision>
    <!-- Part servo_horns_17 -->
    <visual>
      <origin xyz="-0.0627954 0.02225 0.0095" rpy="3.14159 -1.5708 0"/>
      <geometry>
        <mesh filename="package://assets/servo_horns.stl"/>
      </geometry>
      <material name="servo_horns_17_material">
        <color rgba="0.25 0.25 0.25 1"/>
      </material>
    </visual>
    <collision>
      <origin xyz="-0.0627954 0.02225 0.0095" rpy="3.14159 -1.5708 0"/>
      <geometry>
        <mesh filename="package://assets/servo_horns.stl"/>
      </geometry>
    </collision>
  </link>
  <!-- Link tibia_6 -->
  <link name="tibia_6">
    <inertial>
      <origin xyz="0.065 -9.54098e-18 0.0229759" rpy="0 0 0"/>
      <mass value="0.0478411"/>
      <inertia ixx="3.51253e-05" ixy="6.51605e-22" ixz="1.6536e-21" iyy="0.000105742" iyz="-7.74112e-21" izz="7.14134e-05"/>
    </inertial>
    <!-- Part tibia_6 -->
    <visual>
      <origin xyz="-0.260797 -0.005 -0.234601" rpy="-1.5708 -6.36804e-18 -2.22749e-17"/>
      <geometry>
        <mesh filename="package://assets/tibia.stl"/>
      </geometry>
      <material name="tibia_6_material">
        <color rgba="0.25 0.25 0.25 1"/>
      </material>
    </visual>
    <collision>
      <origin xyz="-0.260797 -0.005 -0.234601" rpy="-1.5708 -6.36804e-18 -2.22749e-17"/>
      <geometry>
        <mesh filename="package://assets/tibia.stl"/>
      </geometry>
    </collision>
  </link>
  <!-- Link femur_6 -->
  <link name="femur_6">
    <inertial>
      <origin xyz="0.00696633 -0.0653774 -0.0247333" rpy="0 0 0"/>
      <mass value="0.163879"/>
      <inertia ixx="0.00105506" ixy="-3.57925e-05" ixz="1.23733e-07" iyy="3.99249e-05" iyz="1.42901e-05" izz="0.00107779"/>
    </inertial>
    <!-- Part femur_6 -->
    <visual>
      <origin xyz="-0.244994 0.502112 -0.0184" rpy="3.14159 1.46841e-13 -1.5708"/>
      <geometry>
        <mesh filename="package://assets/femur.stl"/>
      </geometry>
      <material name="femur_6_material">
        <color rgba="0.25 0.25 0.25 1"/>
      </material>
    </visual>
    <collision>
      <origin xyz="-0.244994 0.502112 -0.0184" rpy="3.14159 1.46841e-13 -1.5708"/>
      <geometry>
        <mesh filename="package://assets/femur.stl"/>
      </geometry>
    </collision>
    <!-- Part idler_18 -->
    <visual>
      <origin xyz="-0.0104154 0.01014 0.175812" rpy="-3.14159 -1.70523e-13 -5.13794e-14"/>
      <geometry>
        <mesh filename="package://assets/idler.stl"/>
      </geometry>
      <material name="idler_18_material">
        <color rgba="0.25 0.25 0.25 1"/>
      </material>
    </visual>
    <collision>
      <origin xyz="-0.0104154 0.01014 0.175812" rpy="-3.14159 -1.70523e-13 -5.13794e-14"/>
      <geometry>
        <mesh filename="package://assets/idler.stl"/>
      </geometry>
    </collision>
    <!-- Part e07_mg996r_18 -->
    <visual>
      <origin xyz="0.01 2.09555e-15 -0.0184" rpy="1.46866e-13 6.95944e-14 7.80493e-14"/>
      <geometry>
        <mesh filename="package://assets/e07_mg996r.stl"/>
      </geometry>
      <material name="e07_mg996r_18_material">
        <color rgba="0.25 0.25 0.25 1"/>
      </material>
    </visual>
    <collision>
      <origin xyz="0.01 2.09555e-15 -0.0184" rpy="1.46866e-13 6.95944e-14 7.80493e-14"/>
      <geometry>
        <mesh filename="package://assets/e07_mg996r.stl"/>
      </geometry>
    </collision>
    <!-- Part servo_horns_18 -->
    <visual>
      <origin xyz="0 6.93889e-18 -0.00115" rpy="-1.5708 1.56028e-17 -1.27132e-16"/>
      <geometry>
        <mesh filename="package://assets/servo_horns.stl"/>
      </geometry>
      <material name="servo_horns_18_material">
        <color rgba="0.25 0.25 0.25 1"/>
      </material>
    </visual>
    <collision>
      <origin xyz="0 6.93889e-18 -0.00115" rpy="-1.5708 1.56028e-17 -1.27132e-16"/>
      <geometry>
        <mesh filename="package://assets/servo_horns.stl"/>
      </geometry>
    </collision>
  </link>
  <!-- Joint from tibia_6 to femur_6 -->
  <joint name="femur_l3" type="revolute">
    <origin xyz="0.13 0 0" rpy="3.14159 6.7833e-16 2.53073"/>
    <parent link="tibia_6"/>
    <child link="femur_6"/>
    <axis xyz="0 0 1"/>
    <limit effort="10" velocity="6" lower="-2.18166" upper="5.77316e-15"/>
    <joint_properties friction="0.5"/>
  </joint>
  <!-- Joint from hip_6 to tibia_6 -->
  <joint name="tibia_l3" type="revolute">
    <origin xyz="-0.0627954 0.0234 0.0095" rpy="-1.5708 1.22173 3.14159"/>
    <parent link="hip_6"/>
    <child link="tibia_6"/>
    <axis xyz="0 0 1"/>
    <limit effort="10" velocity="6" lower="-1.22173" upper="7.99361e-15"/>
    <joint_properties friction="0.5"/>
  </joint>
  <!-- Joint from lowerbody to hip_6 -->
  <joint name="hip_l3" type="revolute">
    <origin xyz="-0.138347 0.0804306 0.00709854" rpy="-3.14159 7.69581e-15 -0.436332"/>
    <parent link="lowerbody"/>
    <child link="hip_6"/>
    <axis xyz="0 0 1"/>
    <limit effort="10" velocity="6" lower="-0.523599" upper="0.523599"/>
    <joint_properties friction="0.5"/>
  </joint>
</robot>
